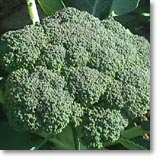broccoli: (0, 7, 151, 149)
